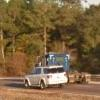Car: (13, 60, 72, 93)
